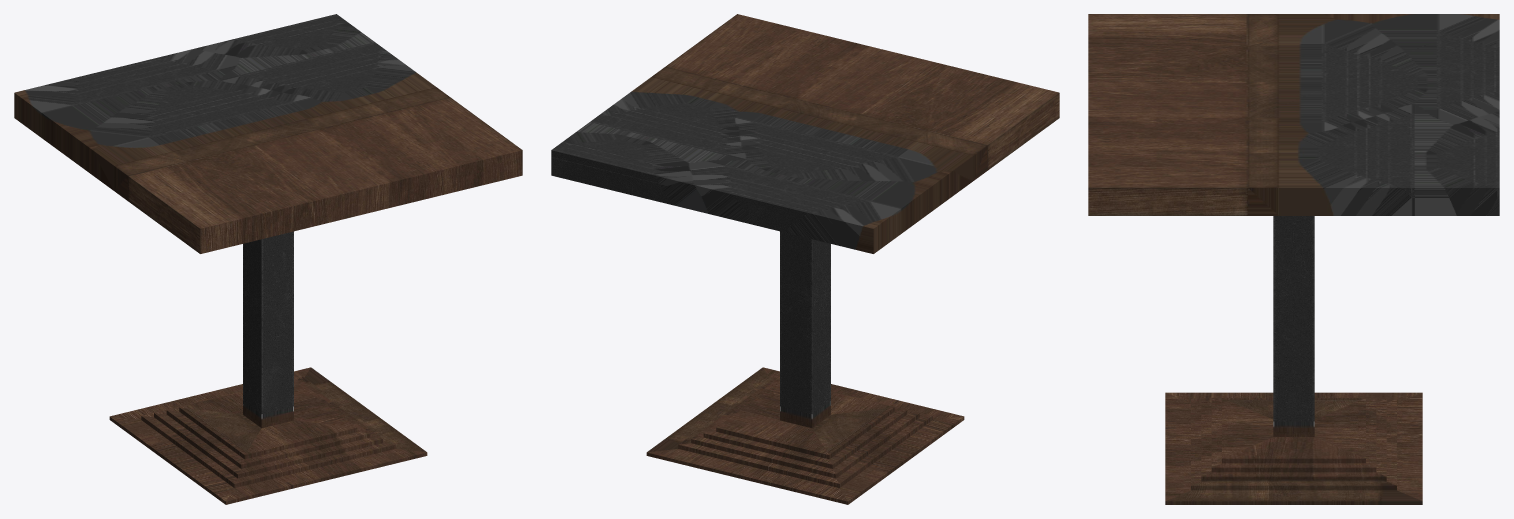
The picture shows the model from 3 angles, left to right: view 1: azimuth 30°, elevation 25°; view 2: azimuth 150°, elevation 25°; view 3: azimuth 270°, elevation 25°; orthographic projection. The views are drawn at different scales.
Parts seen in each view (by area): view 1: re_tb_01; view 2: re_tb_01; view 3: re_tb_01.
Boxes of the visible parts, x1,y1,x2,y2 form: re_tb_01: (14, 14, 522, 504); re_tb_01: (551, 14, 1059, 504); re_tb_01: (1088, 14, 1499, 504).
Size of the model in its own units: 80 by 75 by 80.
